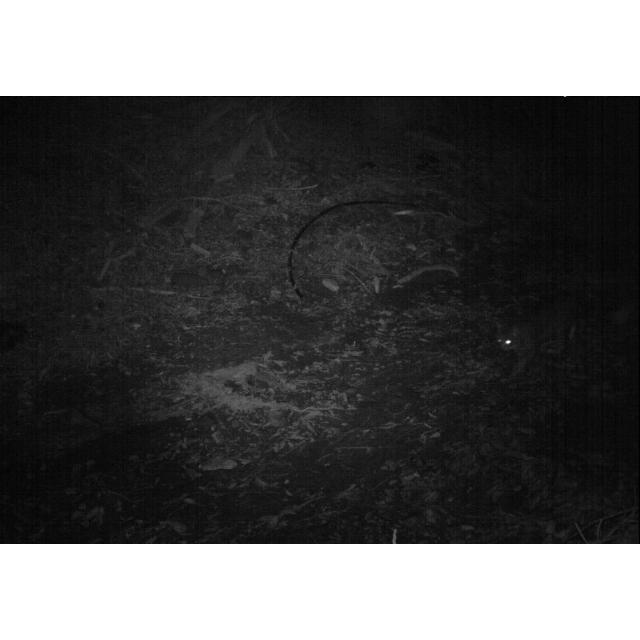animals: (500, 312, 580, 378)
